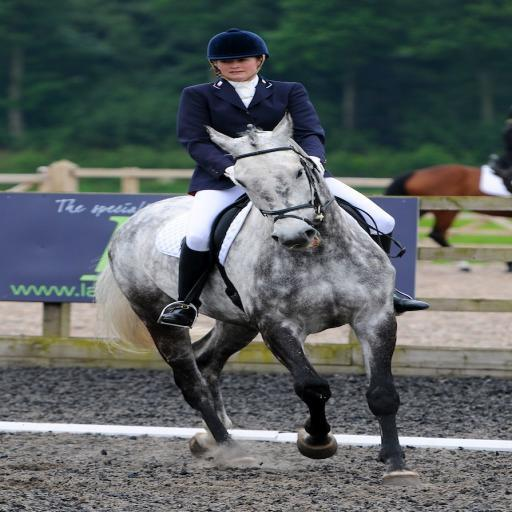horse: (92, 110, 420, 488)
